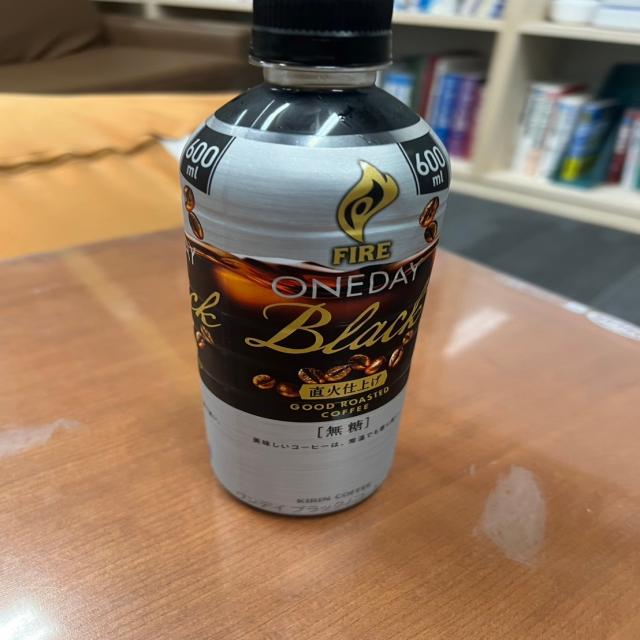coffee-black: (185, 0, 451, 512)
